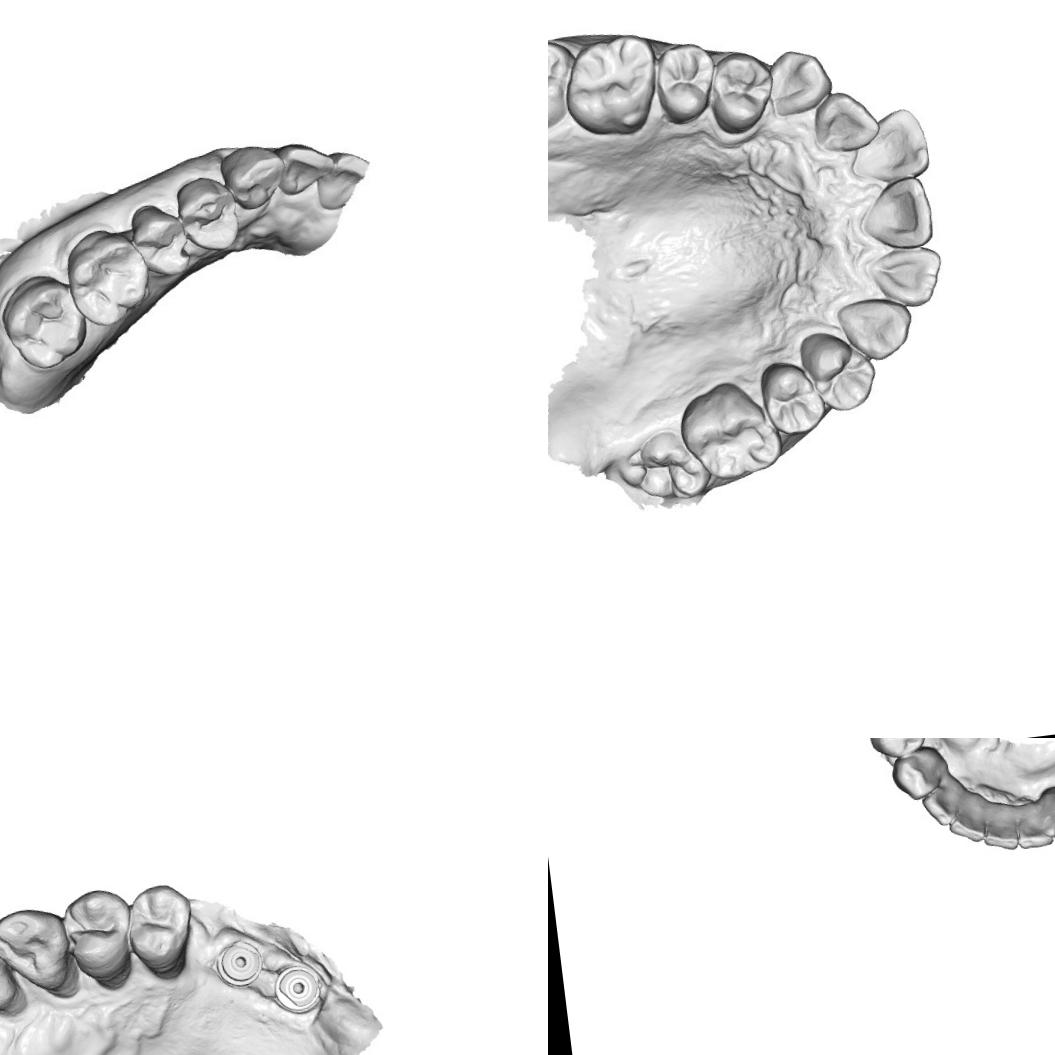canine: (0, 902, 74, 998), (762, 43, 838, 120), (215, 137, 290, 212), (841, 294, 917, 362), (887, 744, 950, 803), (1044, 786, 1055, 845)
implant: (274, 960, 325, 1016), (215, 938, 265, 986)
incisor: (864, 176, 940, 258), (842, 111, 927, 182), (870, 240, 949, 308), (812, 86, 878, 150), (278, 136, 330, 196), (918, 778, 968, 830), (945, 792, 989, 846), (1011, 798, 1055, 852), (978, 802, 1020, 854), (0, 932, 22, 1015)
molar: (560, 32, 664, 130), (679, 380, 779, 480), (0, 269, 90, 374), (67, 234, 152, 334), (624, 426, 705, 510), (548, 39, 577, 125)
premolar: (797, 326, 883, 419), (59, 884, 136, 982), (121, 880, 197, 969), (706, 50, 772, 146), (652, 36, 716, 132), (171, 174, 239, 258), (758, 355, 822, 442), (135, 202, 195, 286), (865, 738, 929, 761)
